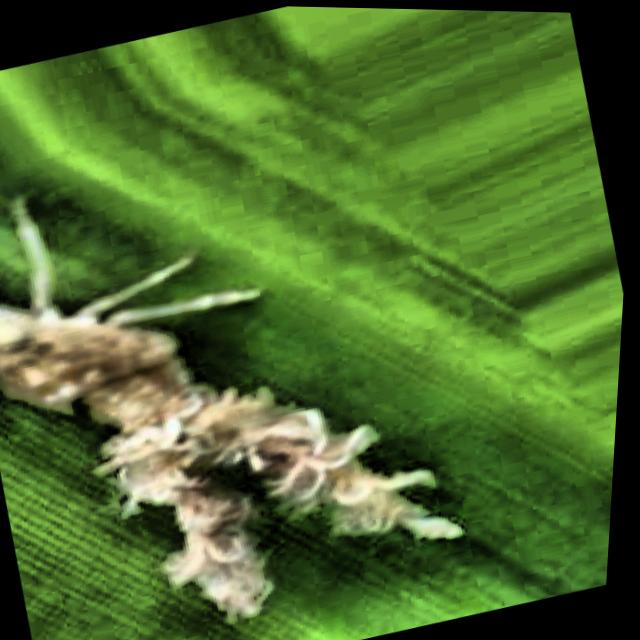Pyrilla-perpusilla: (0, 26, 539, 640)
